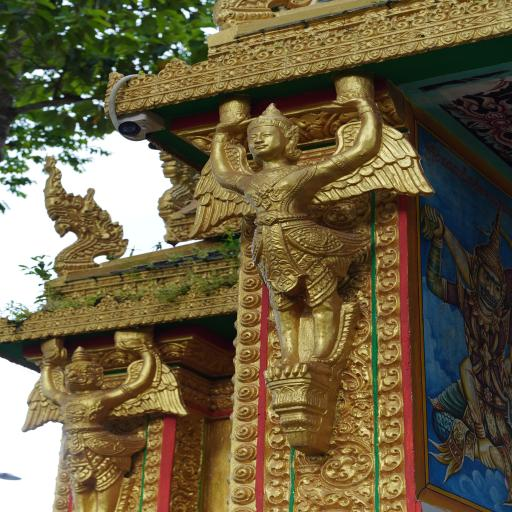ran: (32, 150, 127, 275)
than: (176, 76, 437, 464), (17, 329, 192, 512)
